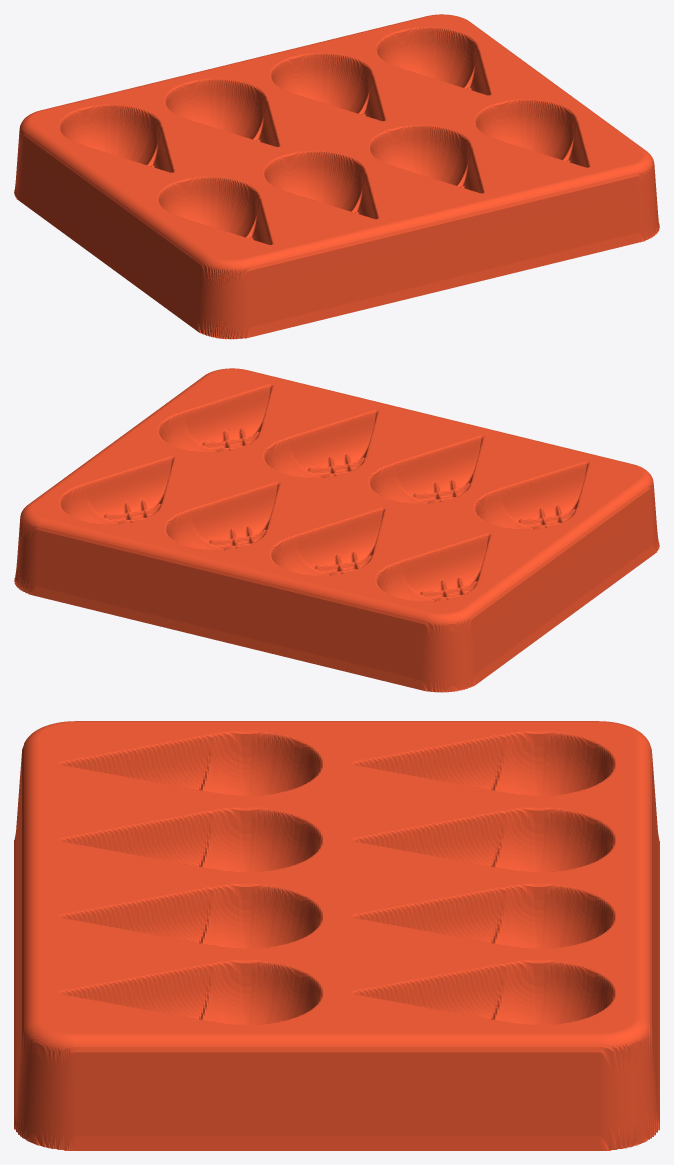
The model's file is mold.glb.
3 renders of one model, top to bottom at view 1: azimuth 30°, elevation 25°; view 2: azimuth 150°, elevation 25°; view 3: azimuth 270°, elevation 25°, orthographic. The views are drawn at different scales.
Parts seen in each view (by area): view 1: geometry_0; view 2: geometry_0; view 3: geometry_0.
Boxes of the visible parts, x1,y1,x2,y2 form: geometry_0: (14, 14, 659, 339); geometry_0: (14, 368, 659, 692); geometry_0: (14, 721, 659, 1150).
Bounding box in the file's own units: 0.116 × 0.0175 × 0.0956.
